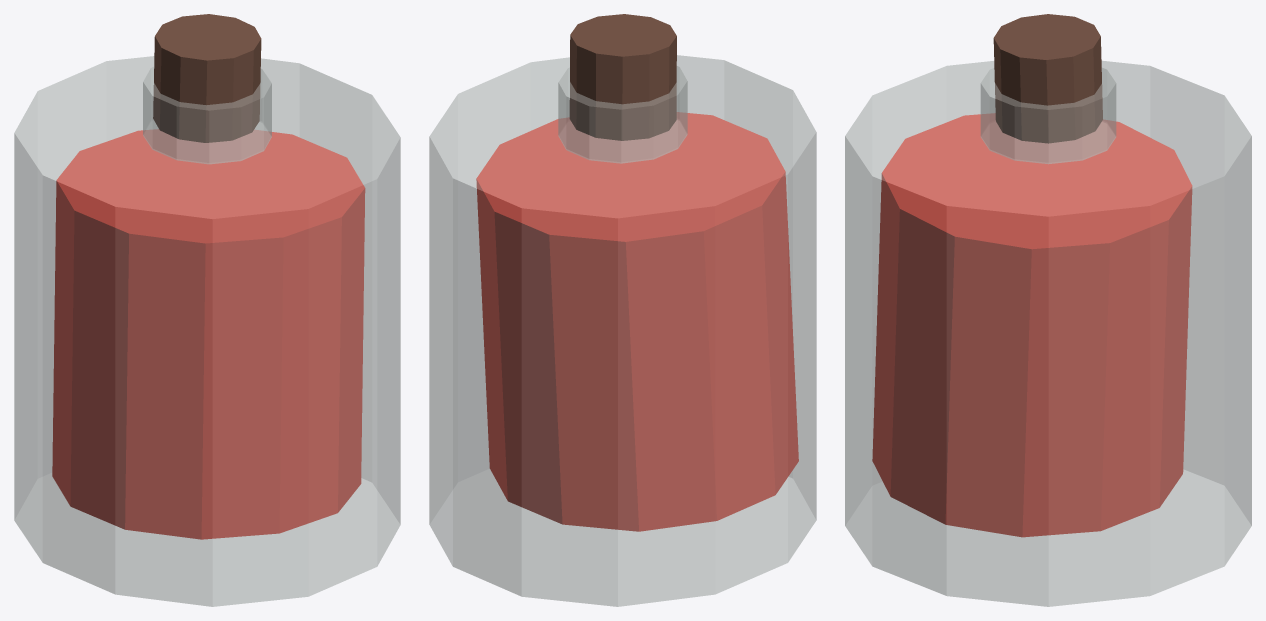
The model's file is RedPigment.glb.
The picture shows the model from 3 angles, left to right: view 1: azimuth 30°, elevation 25°; view 2: azimuth 150°, elevation 25°; view 3: azimuth 270°, elevation 25°; orthographic projection.
Visible parts, largest first — view 1: group832944147, group731629608, group1884113551, group172882982; view 2: group832944147, group731629608, group1884113551, group172882982; view 3: group832944147, group731629608, group1884113551, group172882982.
Part boxes in pixels (left/top/right/bottom): group832944147: left=14, top=56, right=400, bottom=606; group731629608: left=52, top=129, right=365, bottom=539; group1884113551: left=153, top=14, right=261, bottom=142; group172882982: left=143, top=67, right=271, bottom=163; group832944147: left=429, top=55, right=816, bottom=606; group731629608: left=476, top=112, right=798, bottom=531; group1884113551: left=569, top=14, right=676, bottom=140; group172882982: left=558, top=66, right=687, bottom=163; group832944147: left=845, top=60, right=1251, bottom=606; group731629608: left=872, top=113, right=1192, bottom=537; group1884113551: left=993, top=14, right=1102, bottom=143; group172882982: left=980, top=68, right=1116, bottom=163.
Bounding box in the file's own units: 0.32 × 0.4523 × 0.34.
